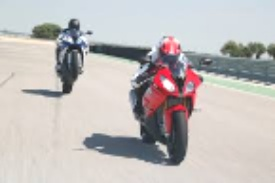Vehicle: (128, 55, 214, 165), (52, 29, 95, 96)
